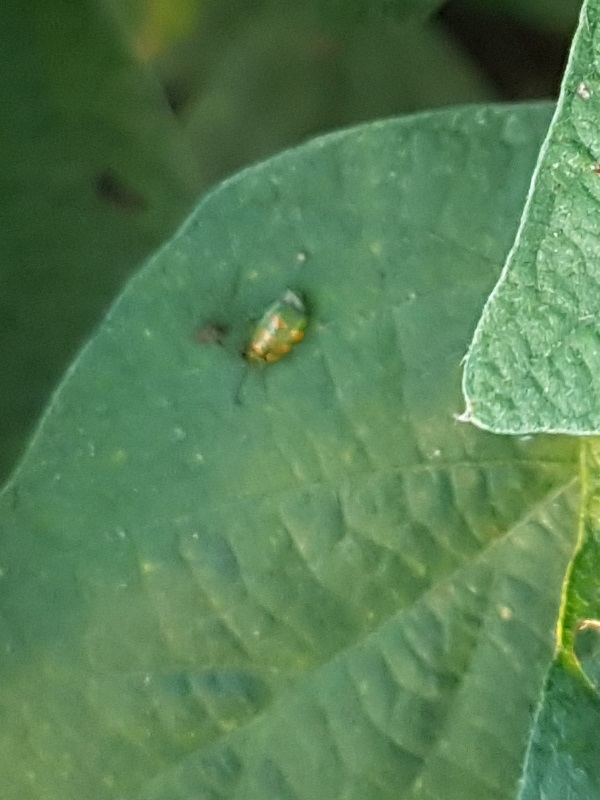Diabrotica_speciosa: (221, 275, 339, 408)
